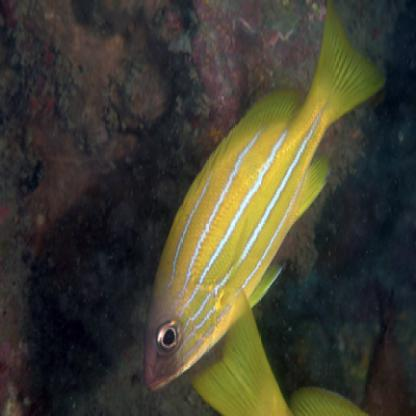snapper: (139, 1, 398, 397)
